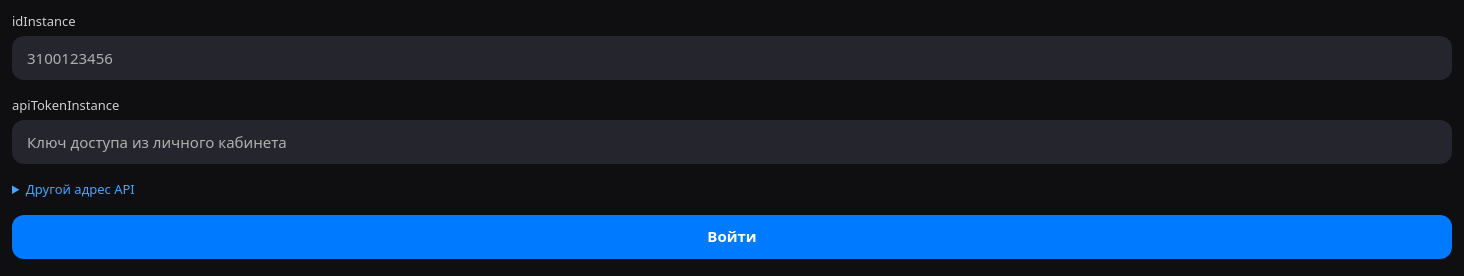
Test: LoginForm › blocks the form while the instance is being checked
Click the field labelled "idInstance" at {"x": 732, "y": 58}, box [12, 36, 1452, 80]
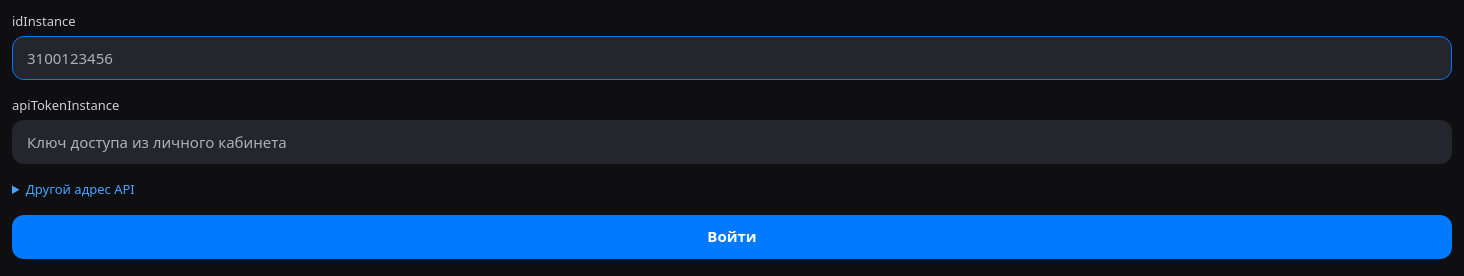
Type keys "3100000001"
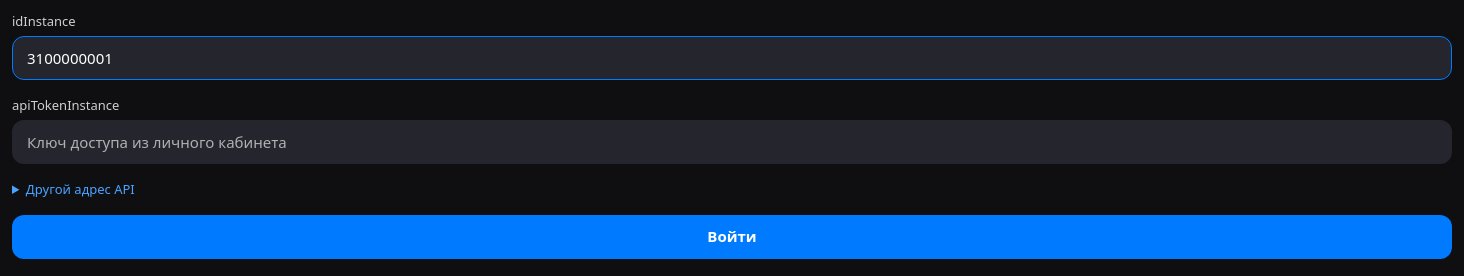
Click the password field labelled "apiTokenInstance" at {"x": 732, "y": 142}, box [12, 120, 1452, 164]
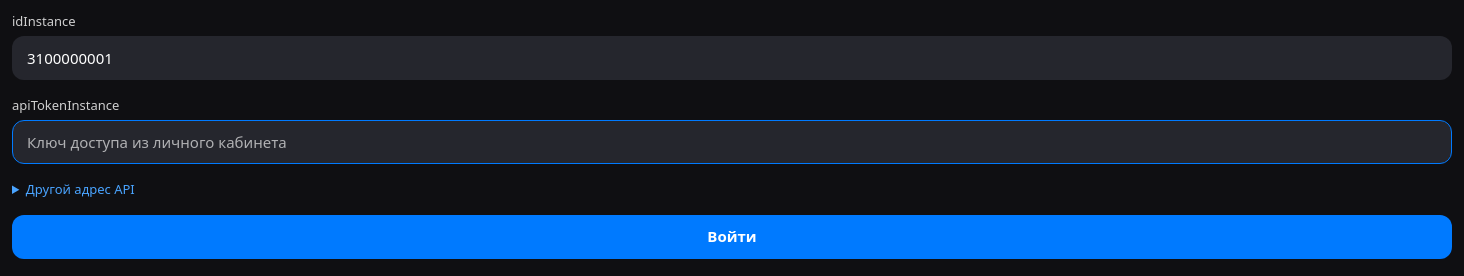
Type keys "d75b3a66374942c5b3c019c698abc2067e151558acbd412345"
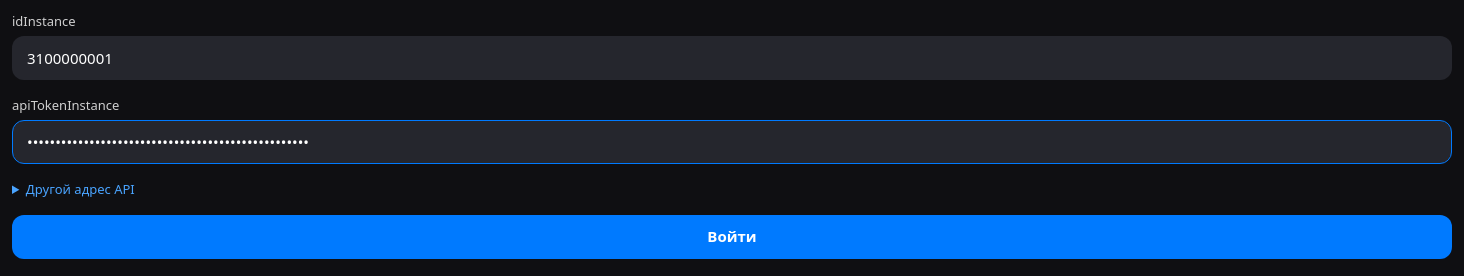
Click the button "Войти" at {"x": 732, "y": 237}, box [12, 215, 1452, 259]
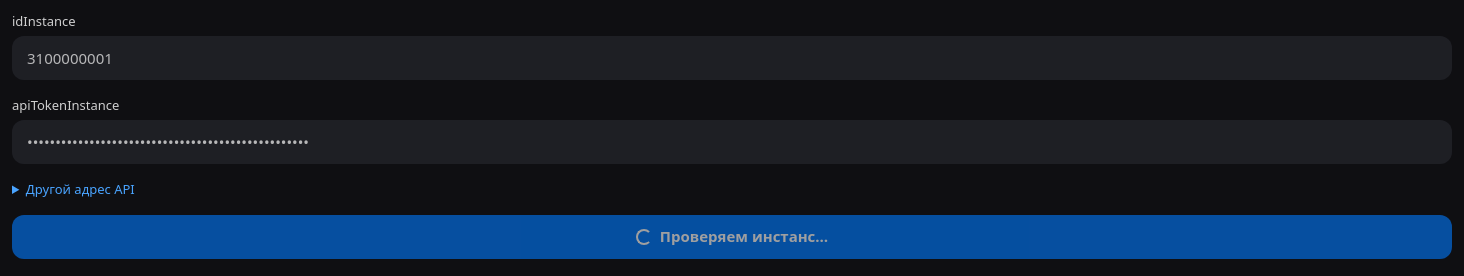
Result: the button "Проверяем инстанс…" is disabled at [12, 215, 1452, 259]
Result: the field labelled "idInstance" is disabled at [12, 36, 1452, 80]
